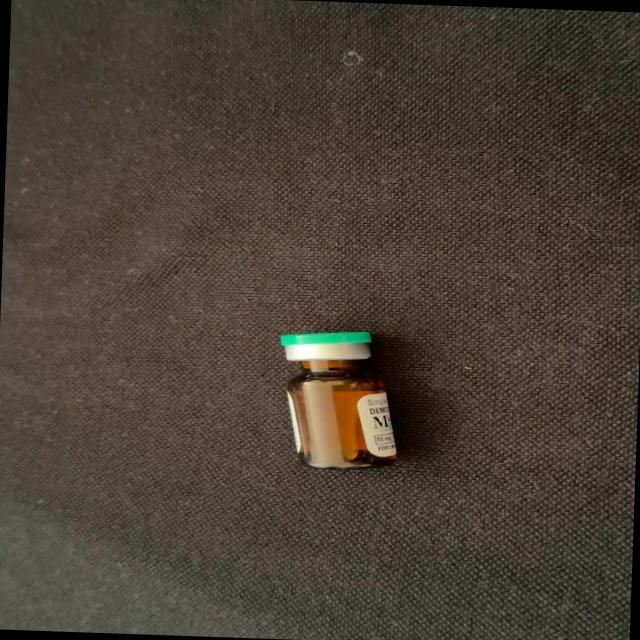midazolm: (278, 330, 401, 468)
